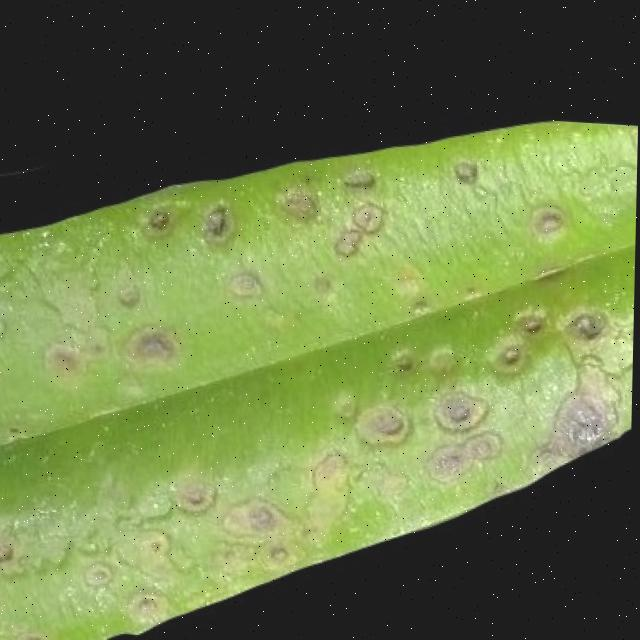mite: (144, 191, 241, 245), (430, 420, 508, 479), (434, 381, 491, 428), (526, 188, 577, 240), (358, 397, 415, 443), (176, 473, 222, 514), (203, 198, 238, 242), (281, 182, 322, 219), (132, 587, 173, 624), (48, 338, 87, 375), (570, 301, 611, 336), (144, 199, 180, 237), (353, 194, 389, 231), (231, 262, 268, 298), (497, 331, 533, 368), (533, 196, 570, 231), (343, 160, 379, 185), (454, 151, 483, 179), (149, 204, 176, 232), (504, 335, 527, 361)
spots: (0, 81, 639, 640)
